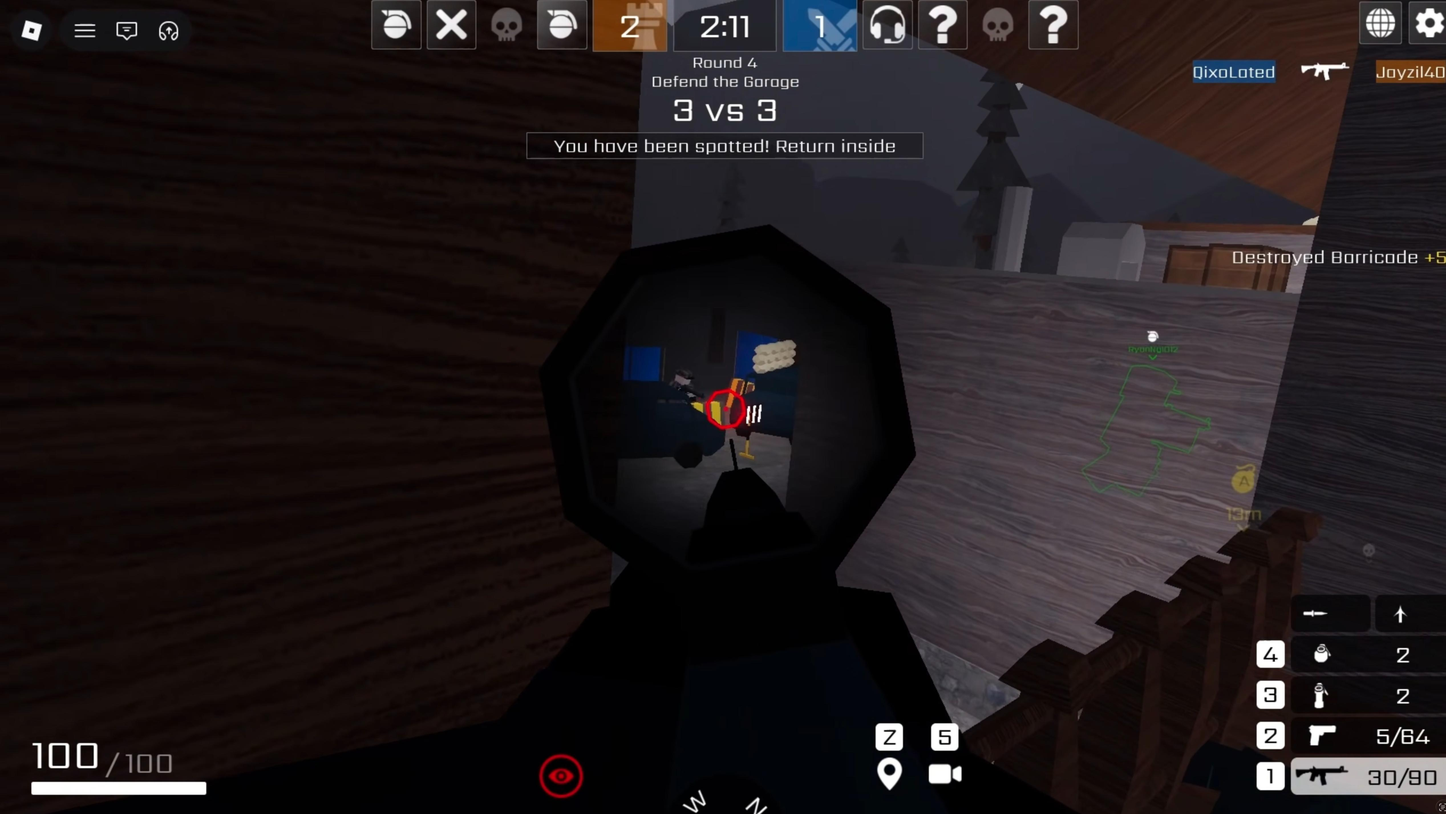enemy: (664, 361, 699, 415)
